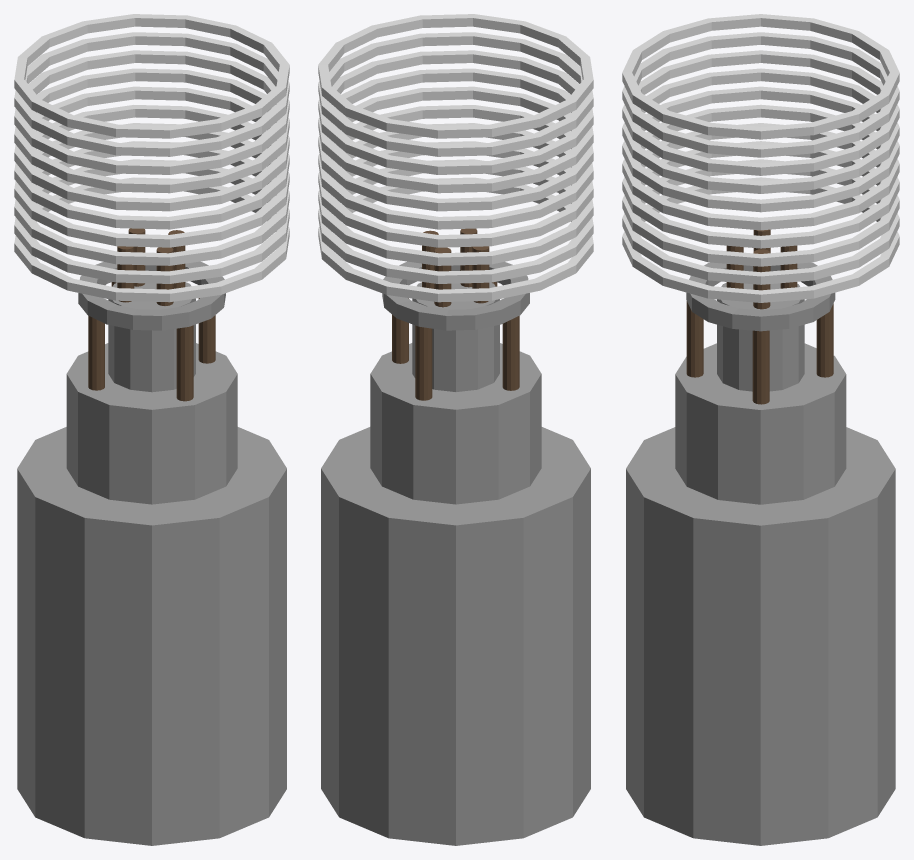
File: light_01.fbx
3 renders of one model, left to right at view 1: azimuth 30°, elevation 25°; view 2: azimuth 150°, elevation 25°; view 3: azimuth 270°, elevation 25°, orthographic.
Visible parts, largest first — view 1: Cylinder.009, Circle.002, Cylinder.001; view 2: Cylinder.009, Circle.002, Cylinder.001; view 3: Cylinder.009, Circle.002, Cylinder.001.
Part boxes in pixels (bbox=[...]): Cylinder.009: bbox=[17, 228, 286, 845]; Circle.002: bbox=[14, 14, 289, 302]; Cylinder.001: bbox=[108, 282, 195, 392]; Cylinder.009: bbox=[321, 228, 590, 845]; Circle.002: bbox=[318, 14, 593, 302]; Cylinder.001: bbox=[412, 282, 499, 391]; Cylinder.009: bbox=[626, 229, 895, 845]; Circle.002: bbox=[622, 14, 899, 302]; Cylinder.001: bbox=[717, 283, 804, 391].
Size of the model in its own units: 387 by 1104 by 387.
